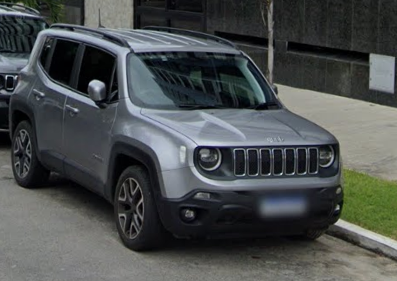car: (10, 22, 353, 257)
